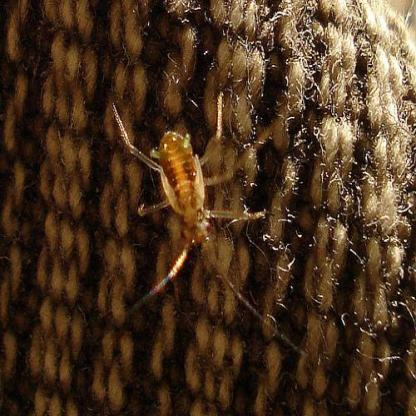aphid: (111, 97, 274, 316)
